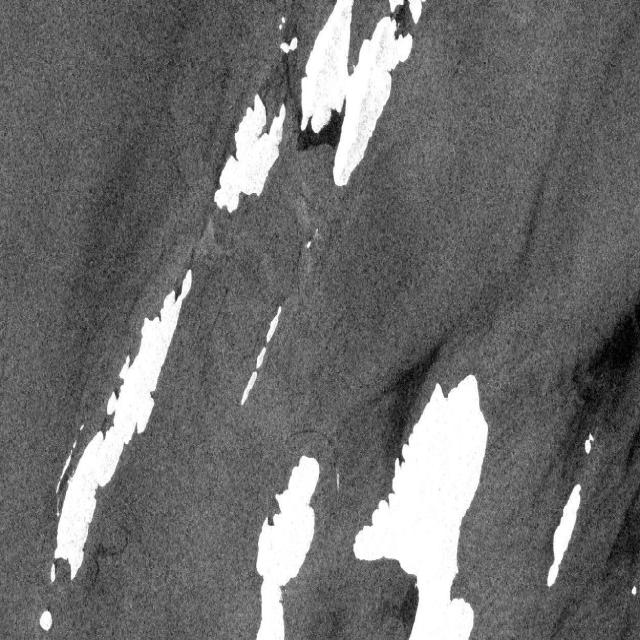look-alike: (261, 50, 303, 121), (296, 108, 340, 161)
